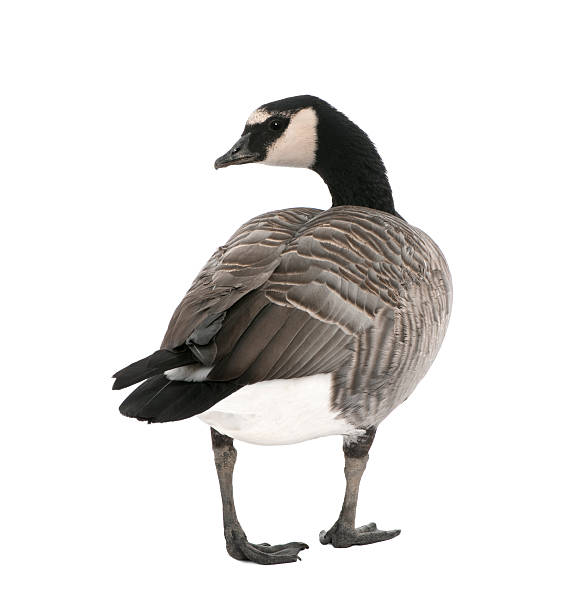goose: (102, 90, 457, 573)
